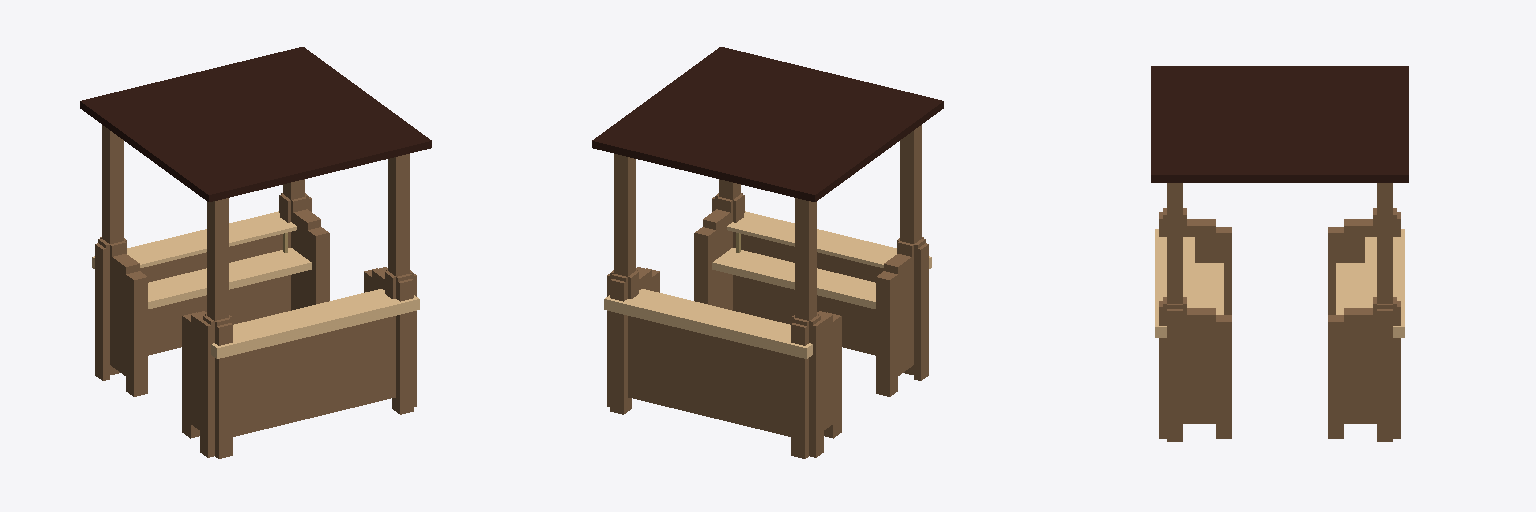
The picture shows the model from 3 angles: view 1: azimuth 30°, elevation 25°; view 2: azimuth 150°, elevation 25°; view 3: azimuth 270°, elevation 25°; orthographic projection.
Visible parts, largest first — view 1: Model; view 2: Model; view 3: Model.
Part boxes in pixels (bbox=[...]): Model: bbox=[80, 47, 431, 458]; Model: bbox=[592, 47, 943, 458]; Model: bbox=[1151, 66, 1408, 441].
Bounding box in the file's own units: 16 × 18.5 × 16.
Materials: 1 (1 with a texture image).